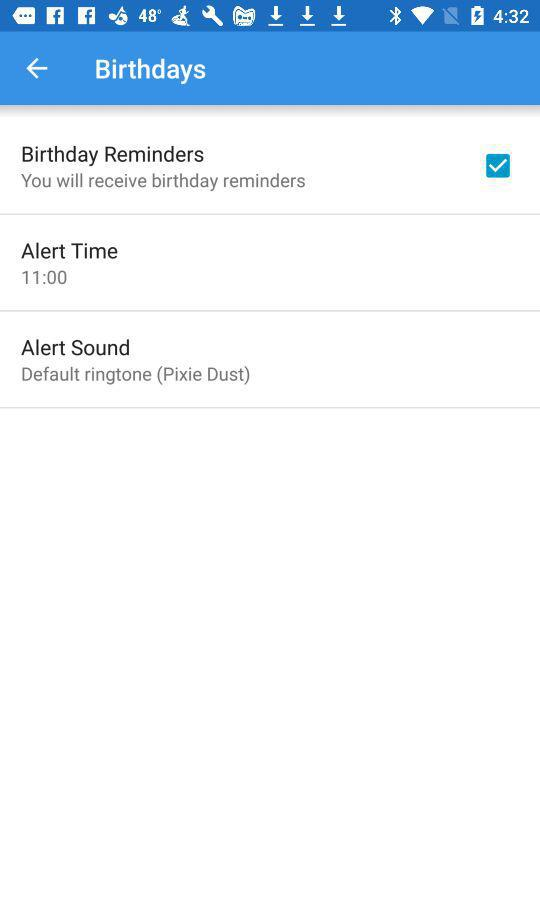CheckedTextView: (485, 154, 511, 179)
Icon: (26, 58, 49, 81)
Text: (21, 172, 306, 193), (22, 366, 250, 386), (23, 145, 205, 168), (96, 58, 207, 86), (21, 339, 131, 357), (22, 242, 119, 261), (22, 271, 69, 286)
Toolbar: (1, 34, 540, 106)
UpperTaskBar: (1, 1, 540, 33)
